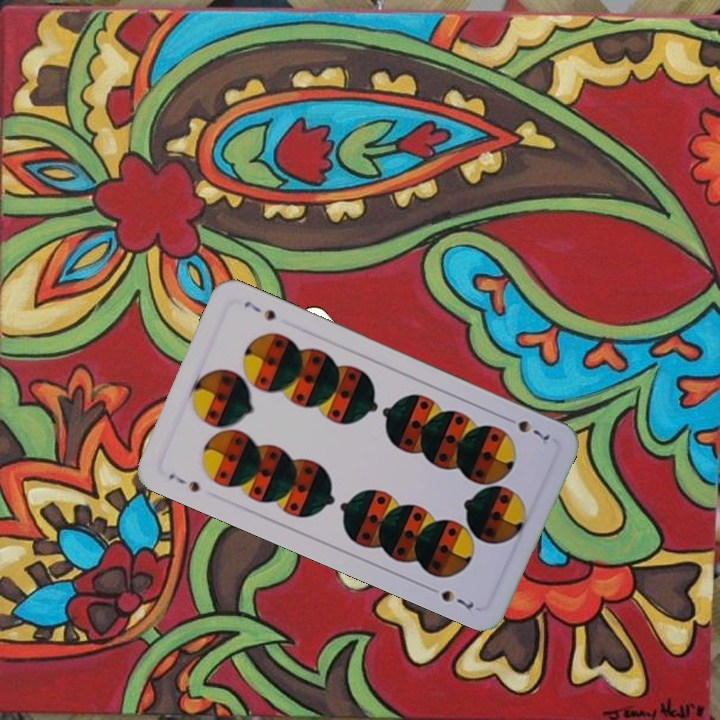S7: (500, 412, 552, 443), (164, 469, 203, 495)
